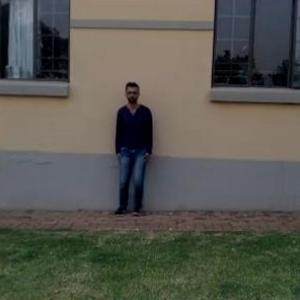follow: (115, 80, 155, 218)
